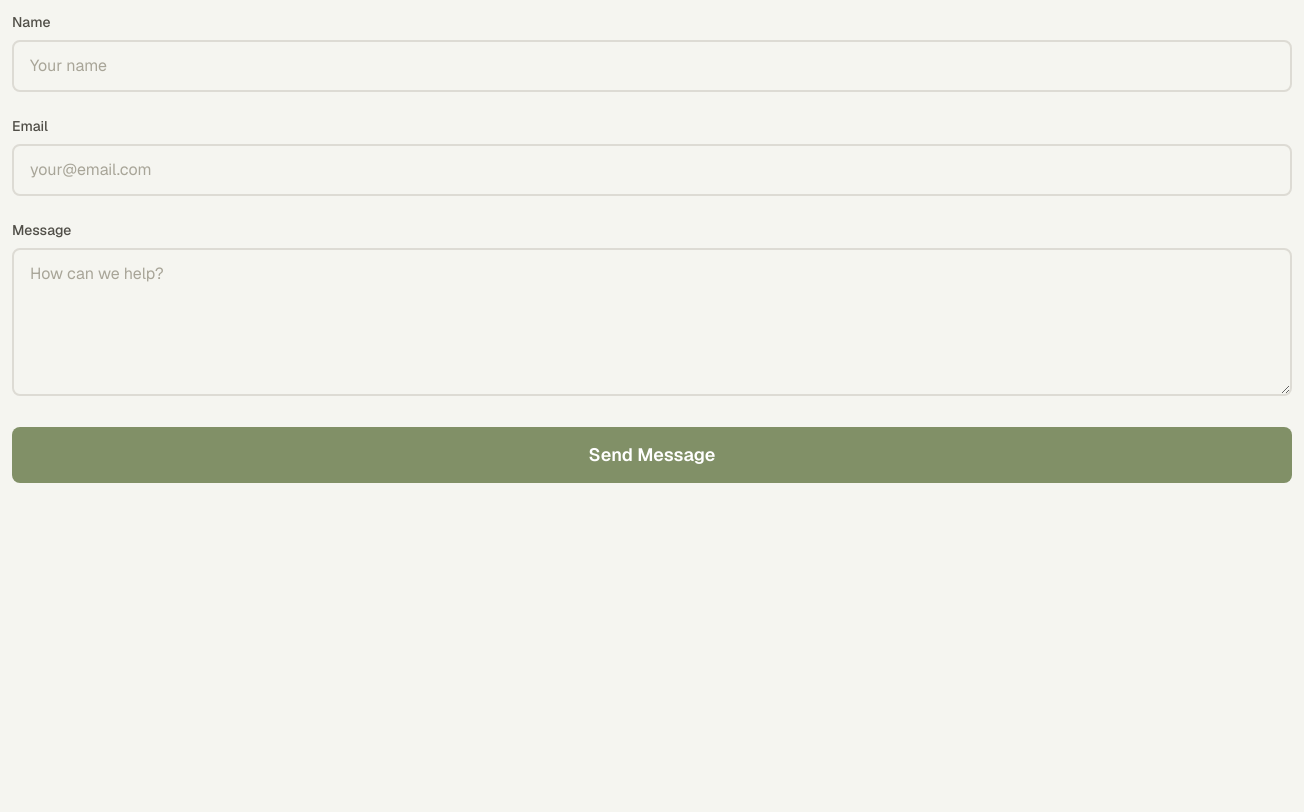
Scenario: ContactForm › validation › shows error for empty email
In the field labelled "Name": coordinates (652, 66) top-left (12, 40), bottom-right (1292, 92), type "John"
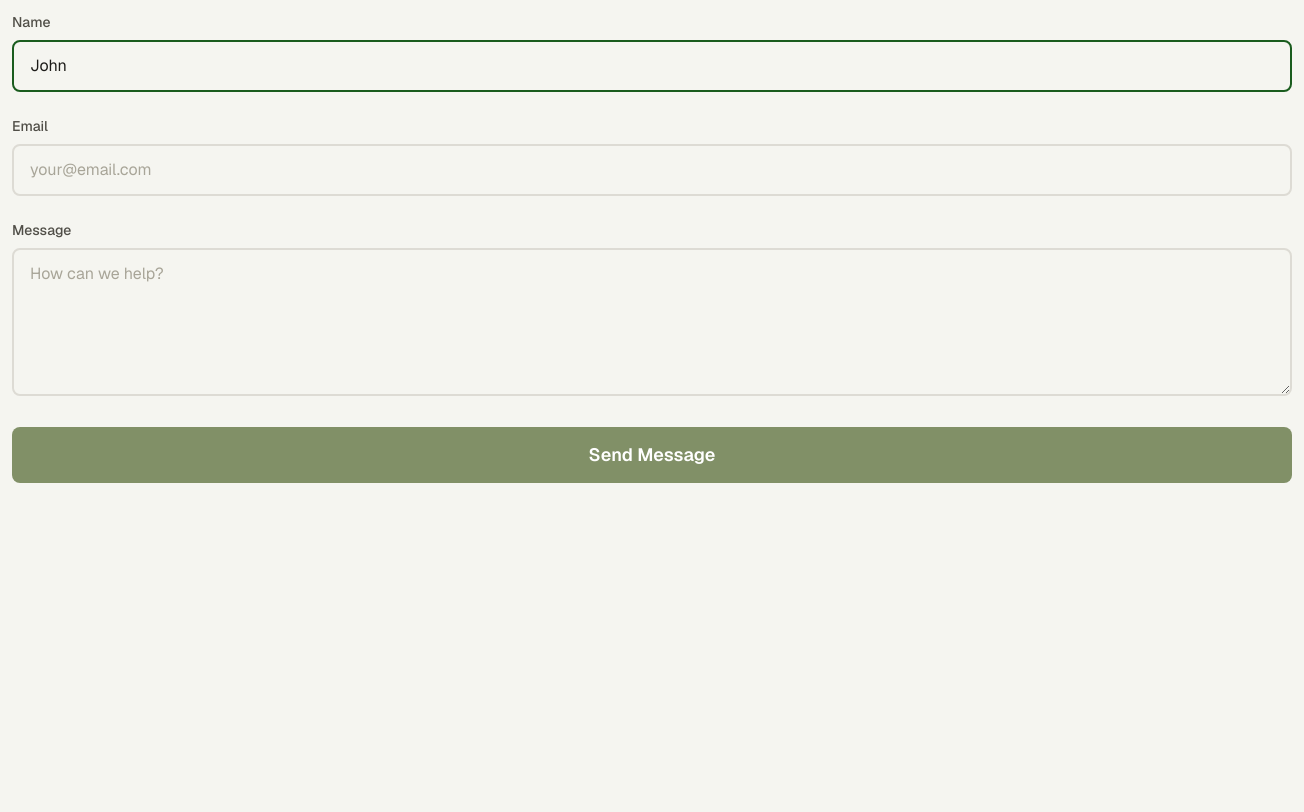
Click the button "Send Message": coordinates (652, 455) top-left (12, 427), bottom-right (1292, 483)
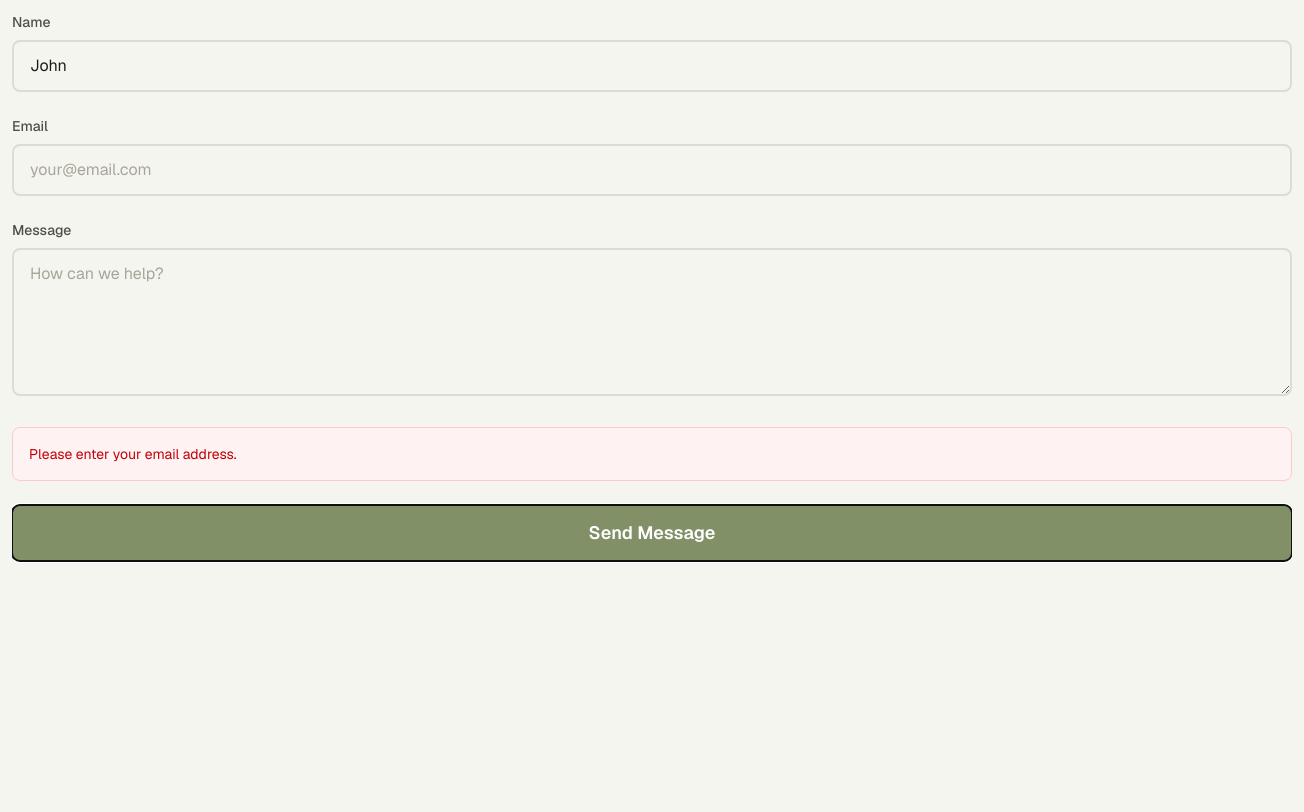
Now the text "Please enter your email address." is shown, box top-left (12, 427), bottom-right (1292, 481)
